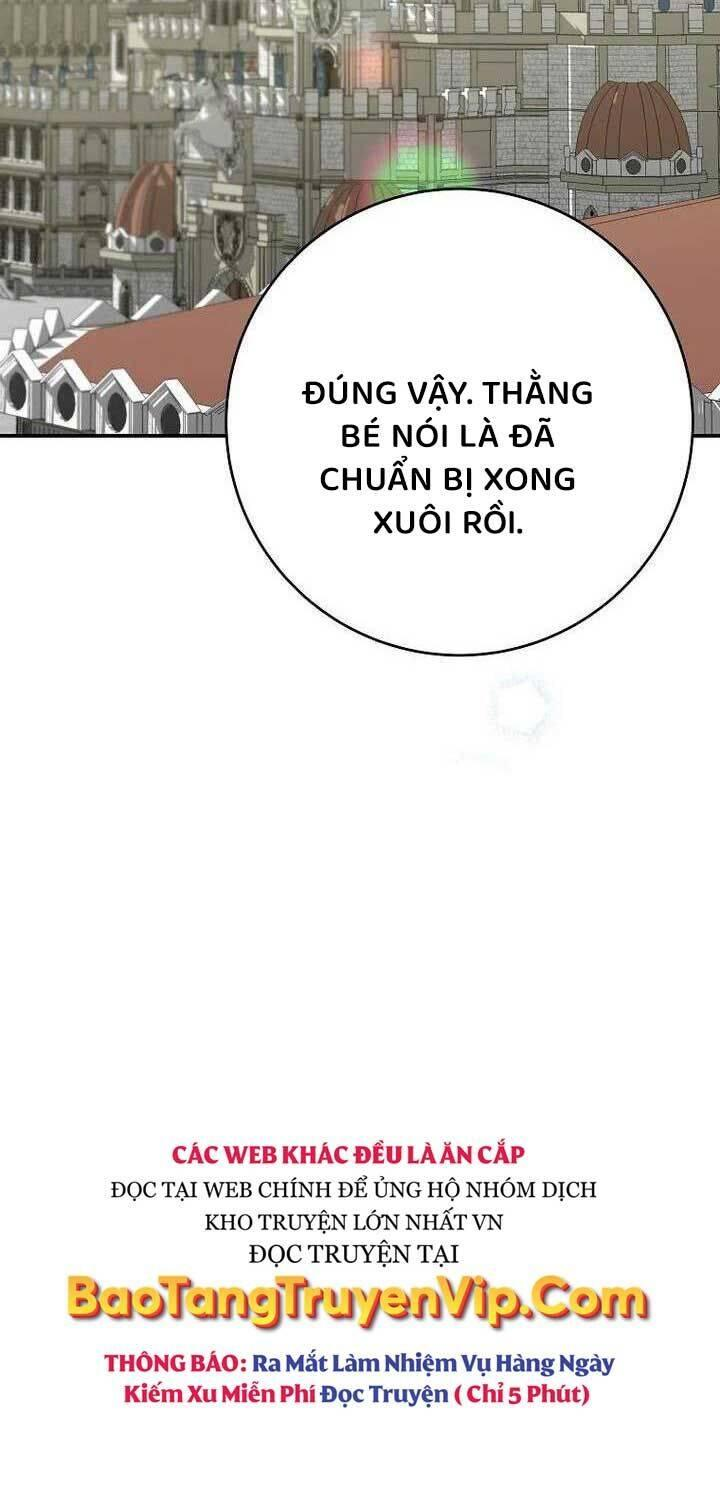quangcao: (66, 1132, 654, 1408)
